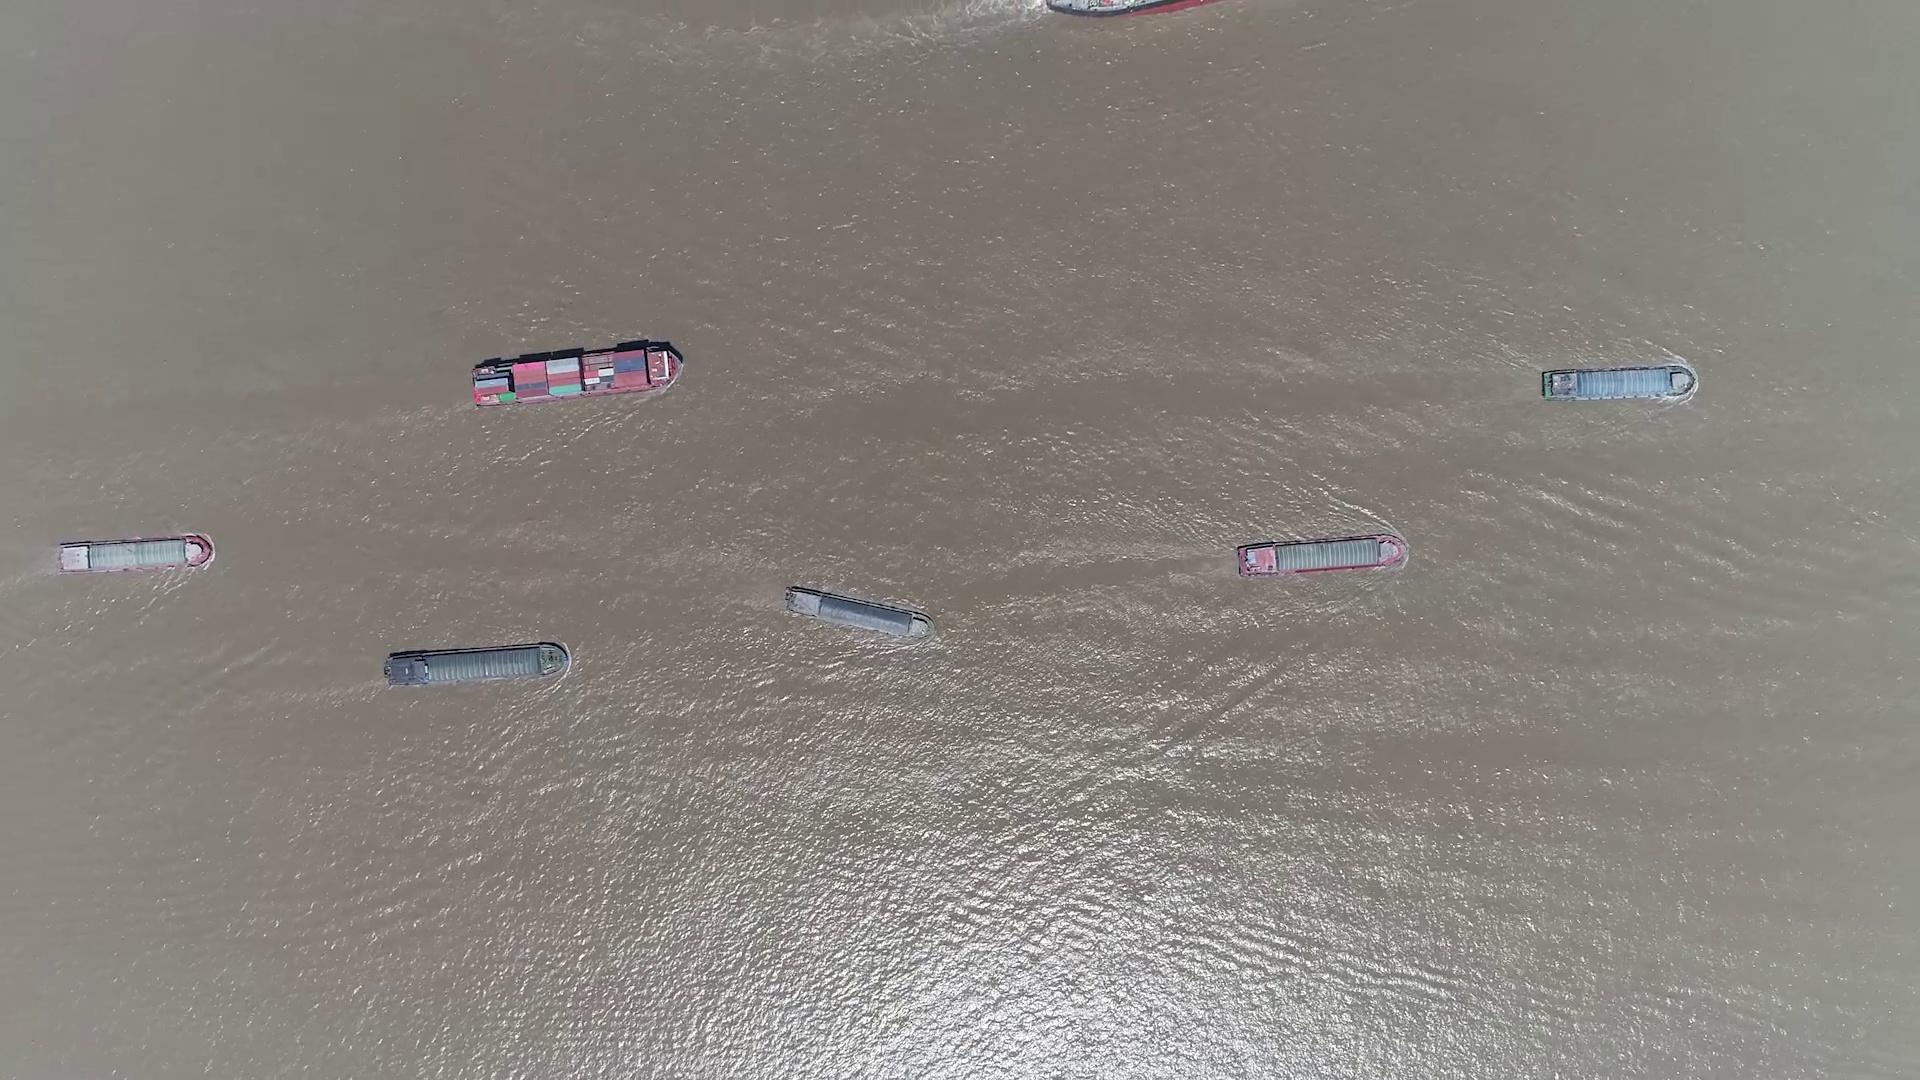ship: (472, 343, 682, 406), (785, 585, 934, 641), (384, 644, 568, 686), (1238, 535, 1408, 578), (54, 535, 214, 574), (1542, 367, 1695, 402)
